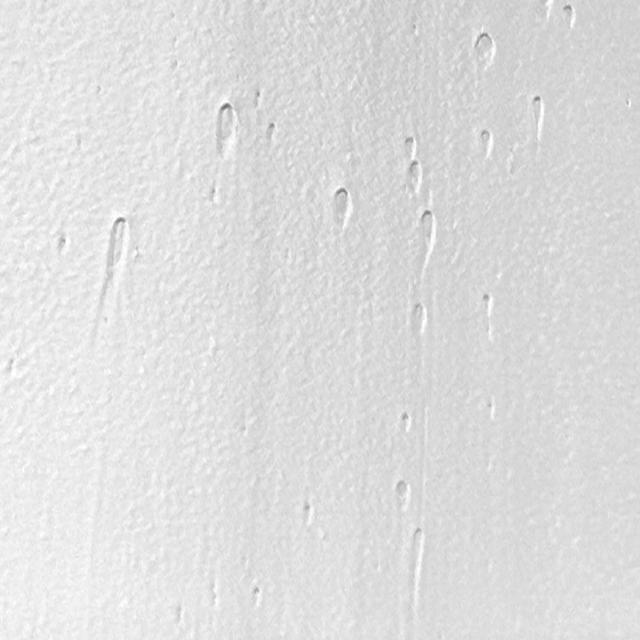pin holes: (406, 525, 424, 640), (103, 213, 129, 287), (210, 104, 240, 154), (329, 185, 353, 228), (414, 208, 438, 250), (471, 32, 497, 68), (528, 96, 550, 133), (475, 290, 496, 326), (407, 300, 429, 334), (391, 478, 412, 511), (474, 128, 495, 158), (406, 159, 424, 191), (562, 1, 580, 30), (535, 1, 555, 27), (396, 411, 414, 437), (299, 500, 317, 526), (481, 396, 498, 422), (207, 581, 224, 606), (401, 135, 419, 158), (54, 233, 70, 258), (207, 185, 224, 208), (479, 293, 495, 316), (251, 584, 265, 606), (266, 121, 280, 142), (253, 89, 265, 109), (623, 96, 634, 112)
